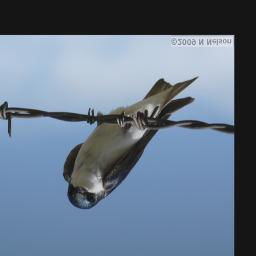Swallow: (62, 77, 196, 209)
